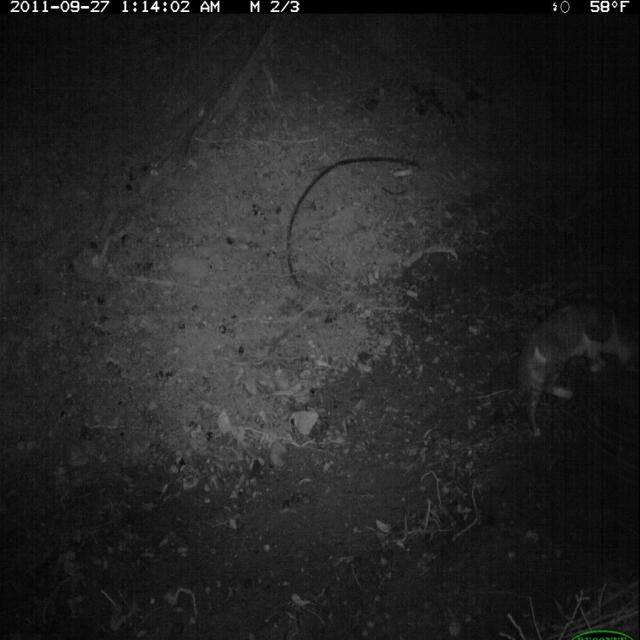cat: (483, 287, 634, 444)
